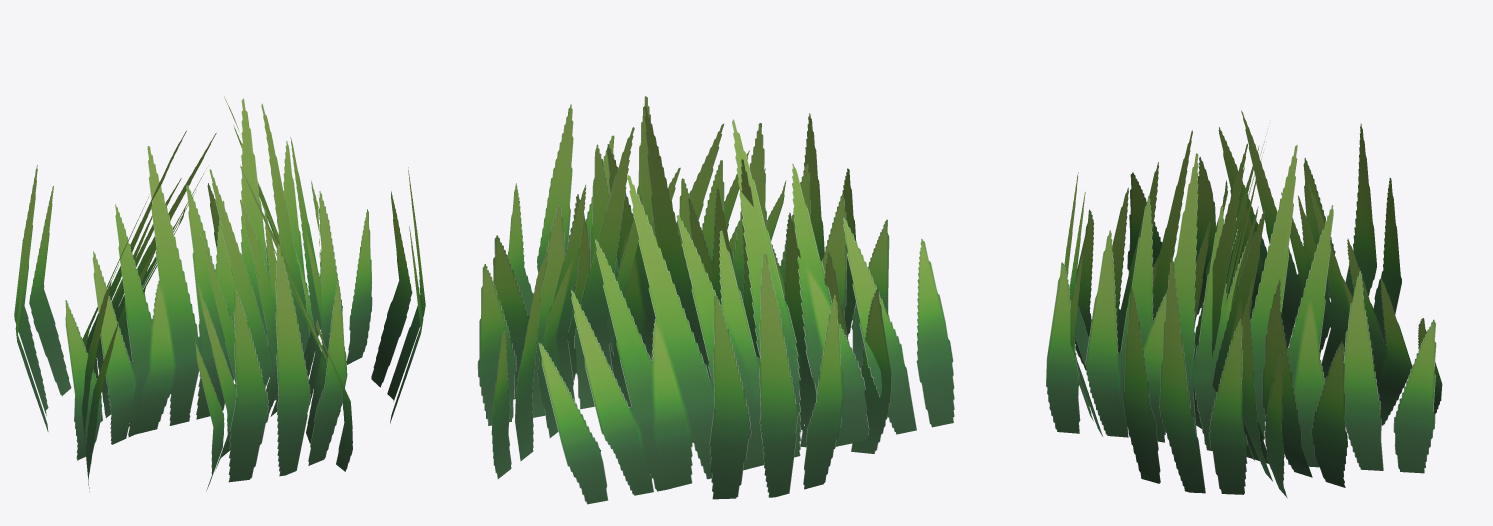
File: grass_big.fbx
3 renders of one model, left to right at view 1: azimuth 30°, elevation 25°; view 2: azimuth 150°, elevation 25°; view 3: azimuth 270°, elevation 25°, orthographic. The views are drawn at different scales.
Visible parts, largest first — view 1: pPlane50; view 2: pPlane50; view 3: pPlane50.
Boxes of the visible parts, <box> form: pPlane50: <box>14,96,425,491</box>; pPlane50: <box>477,96,954,504</box>; pPlane50: <box>1046,110,1442,497</box>.
Size of the model in its own units: 42.3 by 35.53 by 43.61.
1 material, 1 textured.
